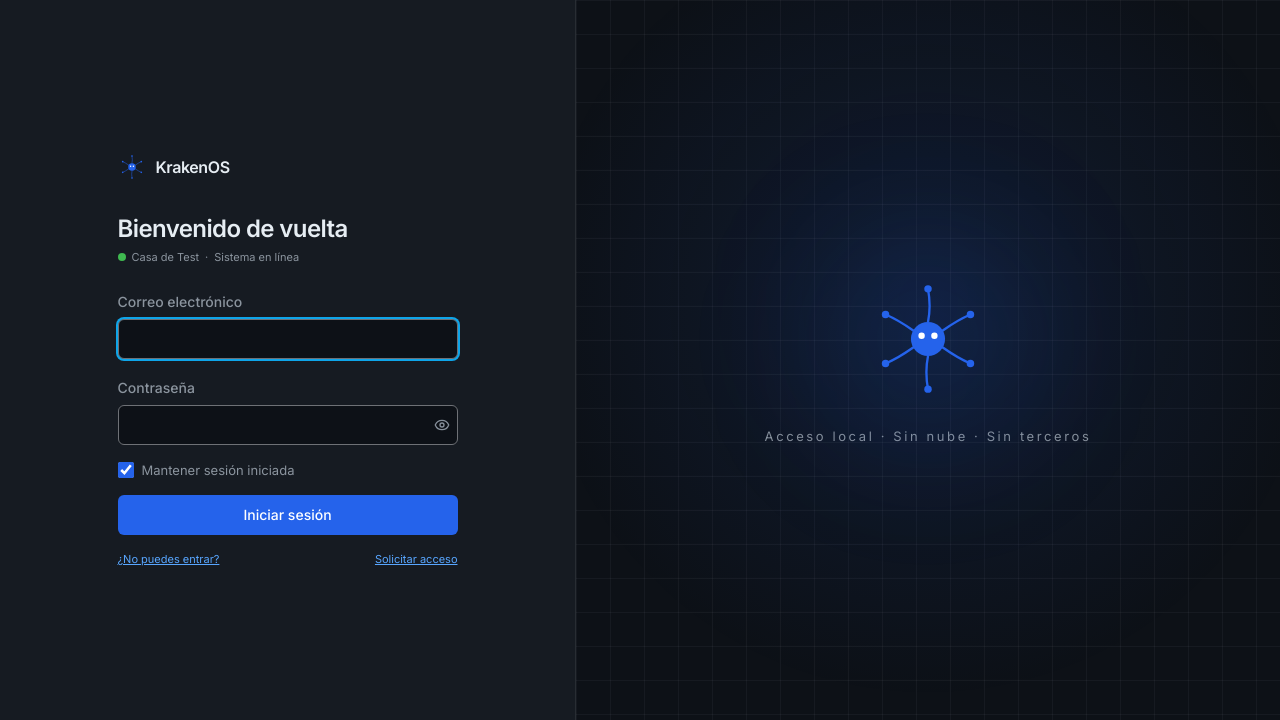
LoginPage › entrar sin la contraseña (US-269) › un código incorrecto se anuncia sin decir si el correo existe
Click the button "¿No puedes entrar?" at (168, 559), box x1=118 y1=551 x2=219 y2=567
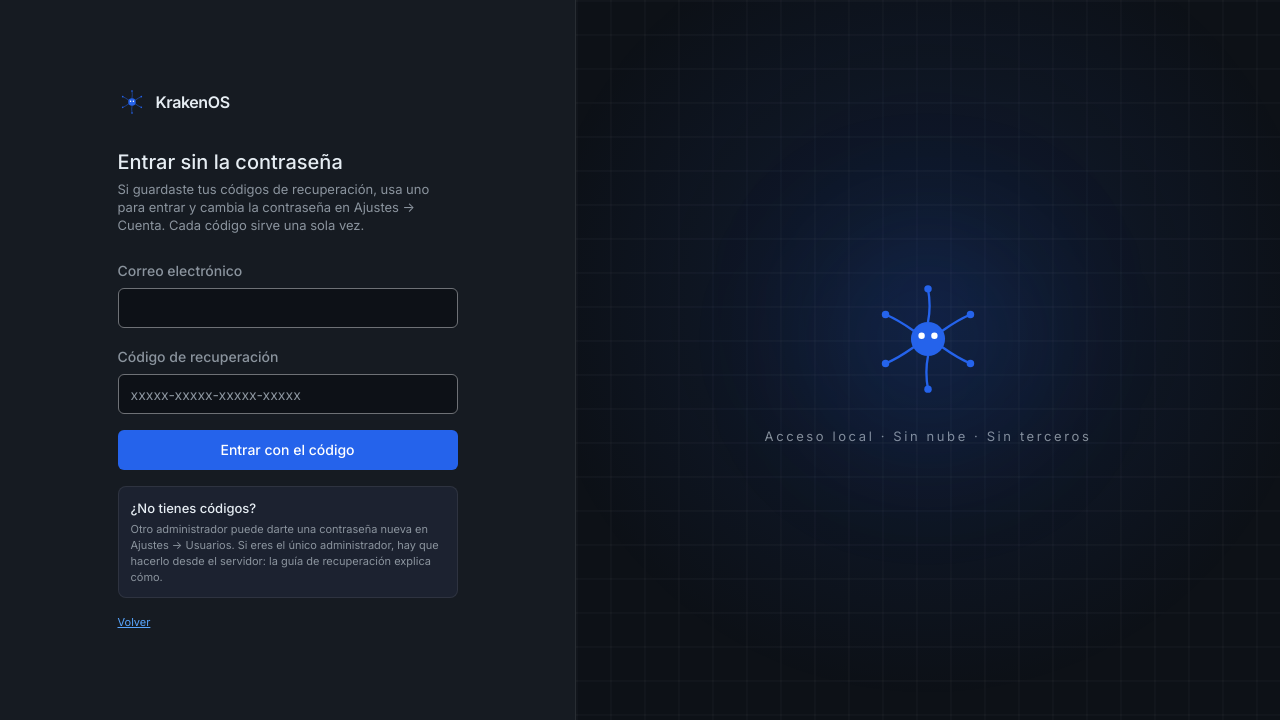
Type "yo@krakenos.test" into the field labelled "Correo electrónico" at (288, 308), box x1=118 y1=288 x2=458 y2=328
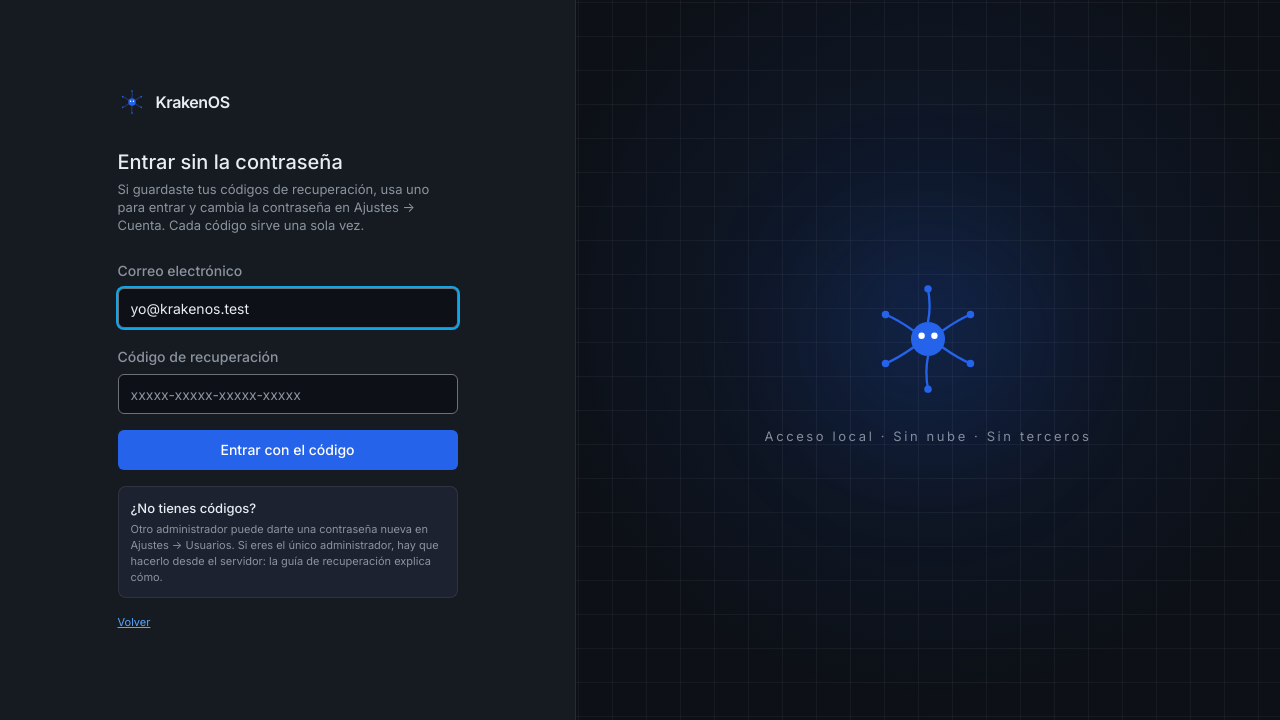
Type "mal-mal-mal" into the field labelled "Código de recuperación" at (288, 394), box x1=118 y1=374 x2=458 y2=414
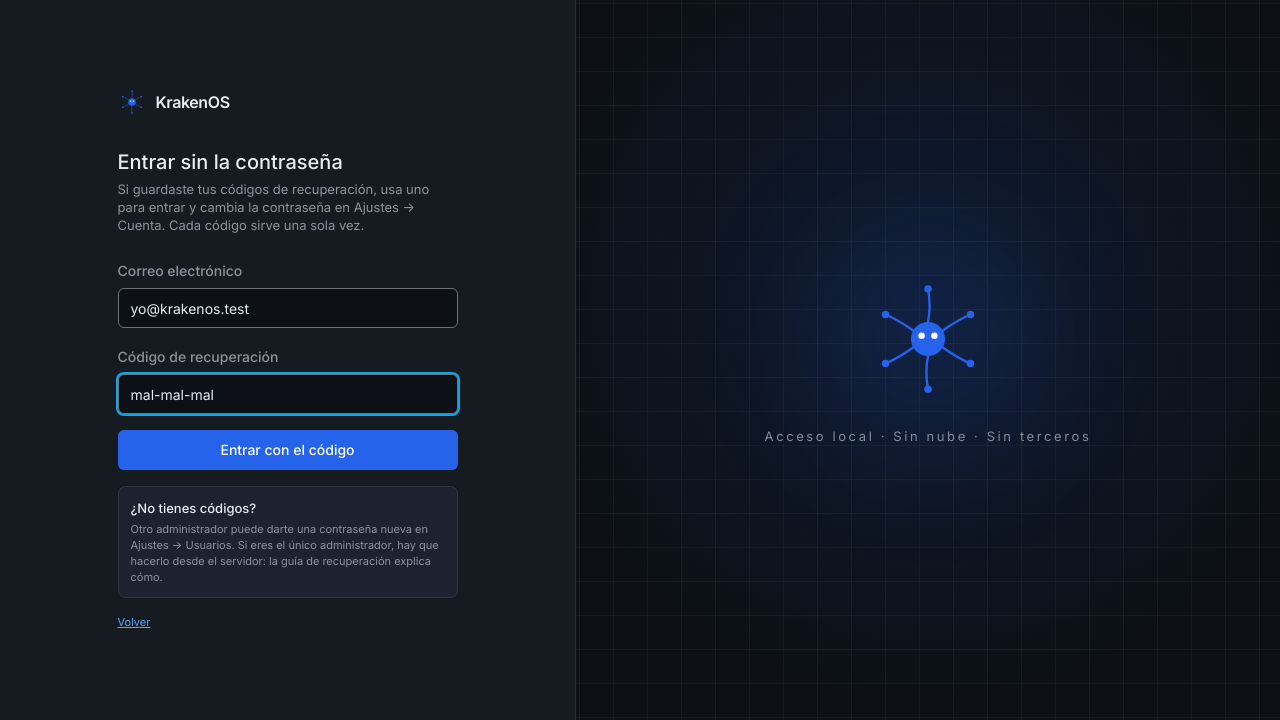
Click the button "Entrar con el código" at (288, 450), box x1=118 y1=430 x2=458 y2=470
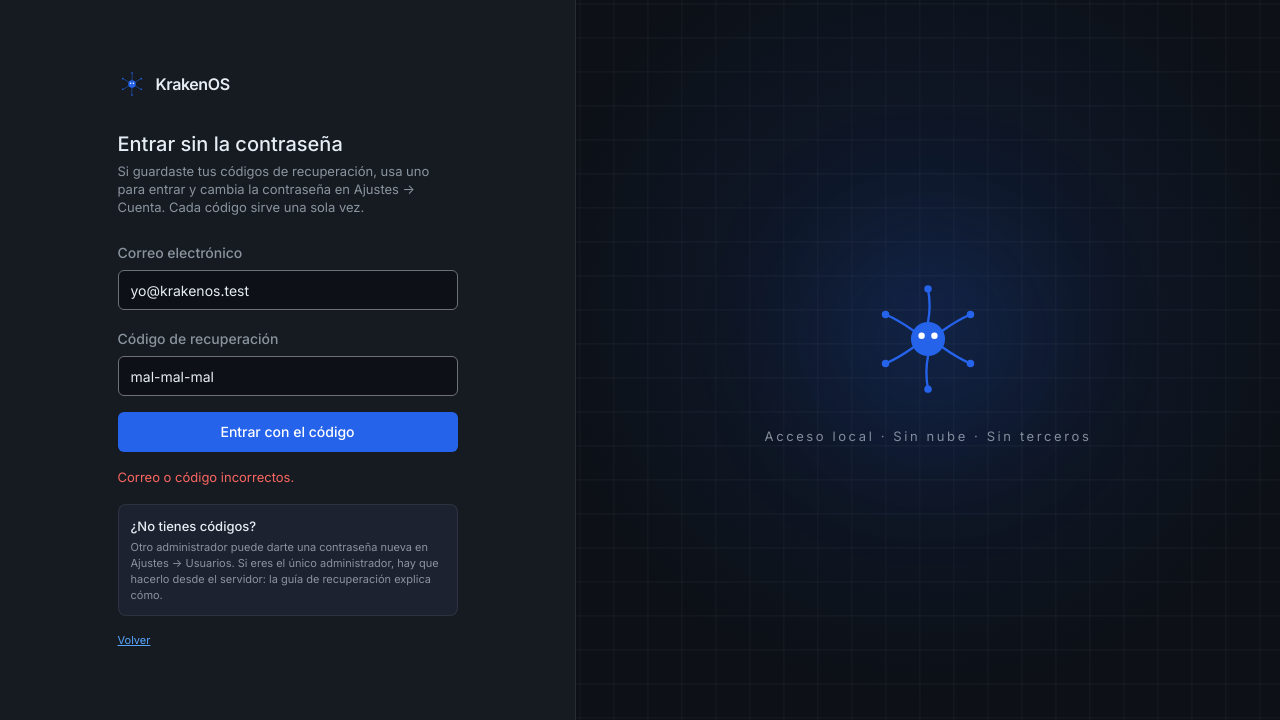
Expected: the message reads "Correo o código incorrectos.", x1=118 y1=469 x2=294 y2=485
